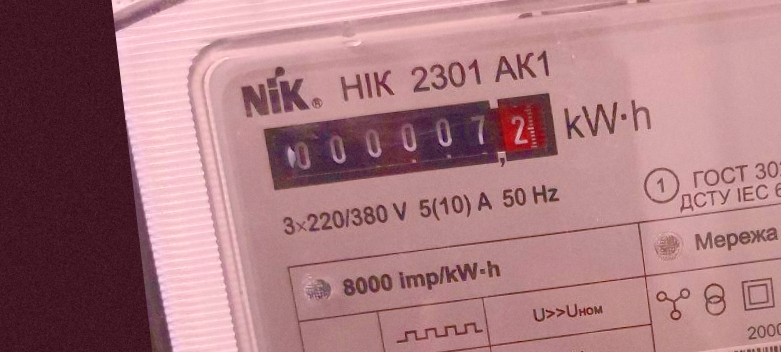0: (359, 122, 386, 163), (289, 135, 315, 173), (430, 112, 455, 150), (397, 118, 421, 157), (326, 129, 349, 167)
2: (507, 110, 532, 149)
7: (466, 109, 491, 149)
screen: (257, 84, 568, 198)
